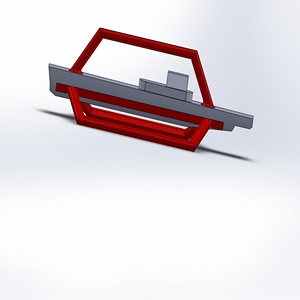submarine: (39, 19, 270, 182)
